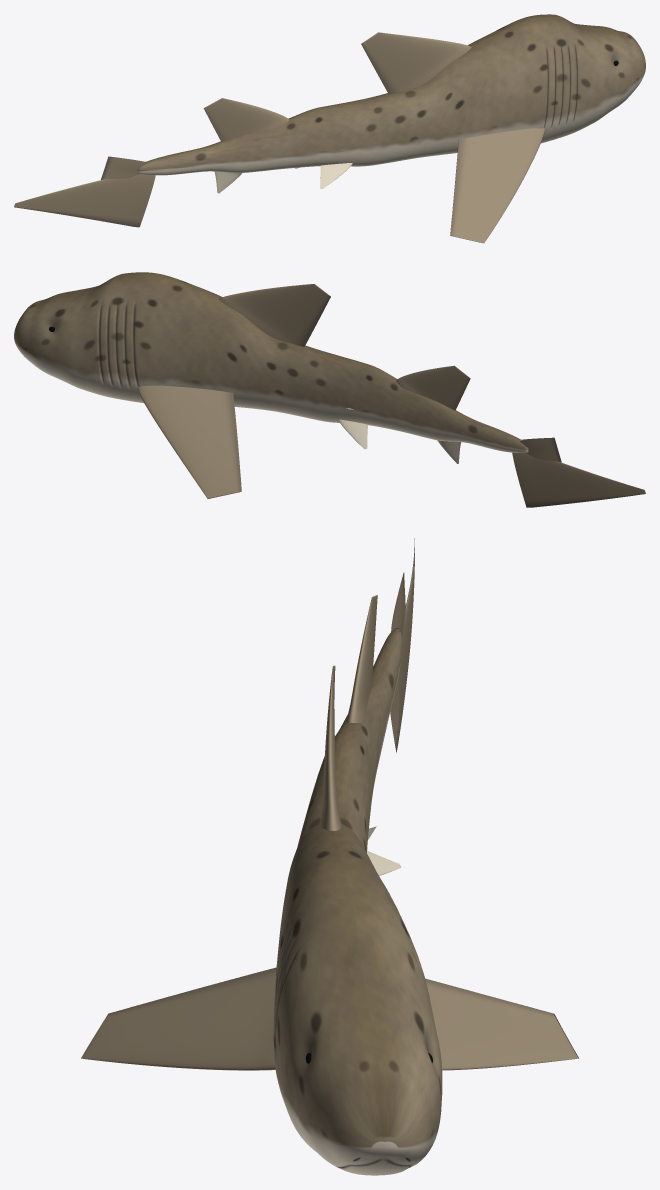
The model's file is horn_shark.glb.
3 renders of one model, top to bottom at view 1: azimuth 30°, elevation 25°; view 2: azimuth 150°, elevation 25°; view 3: azimuth 270°, elevation 25°, orthographic. The views are drawn at different scales.
Visible parts, largest first — view 1: horn_shark_Body, horn_shark_Fins; view 2: horn_shark_Body, horn_shark_Fins; view 3: horn_shark_Body, horn_shark_Fins.
Part boxes in pixels (x1,y1,x2,y2): horn_shark_Body: (137,14,645,175); horn_shark_Fins: (14,32,545,243); horn_shark_Body: (14,272,528,452); horn_shark_Fins: (137,284,645,507); horn_shark_Body: (273,628,442,1175); horn_shark_Fins: (81,538,578,1070).
Bounding box in the file's own units: 1 × 0.27 × 0.3479.
Materials: 3 (1 with a texture image).
